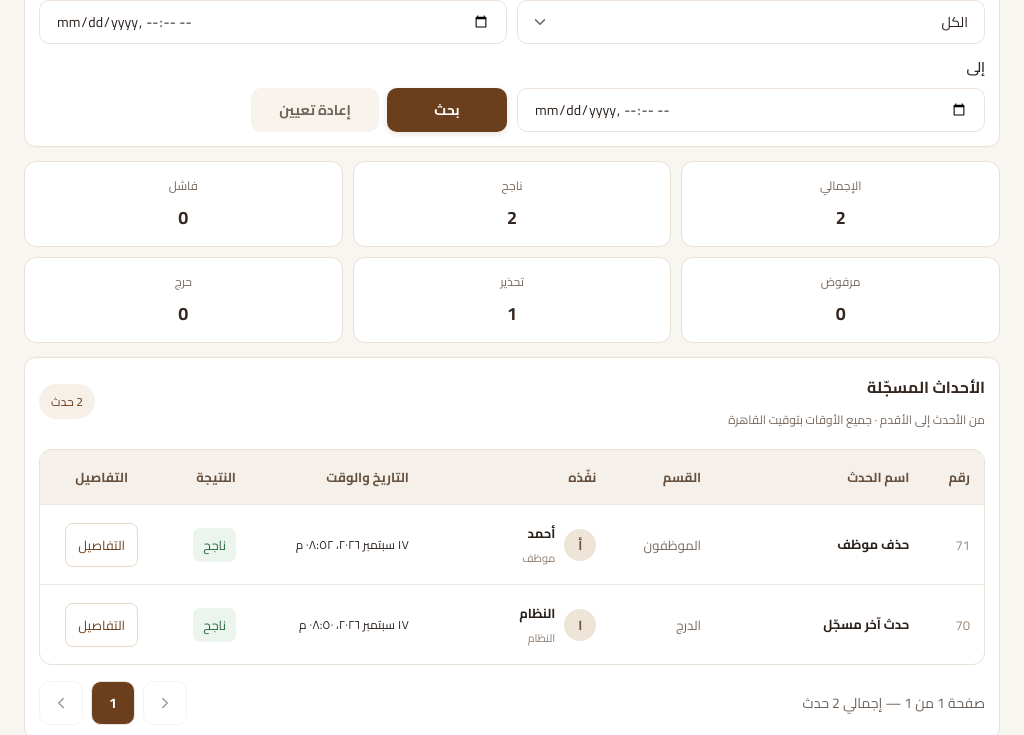
Test: audit page event cards › shows every event with its employee and expands the full-data card
The width and height of the screenshot is (1024, 735).
(page scrolled)
Expected: the text "أحمد" is shown, [528,521,555,545]
Expected: the text "71" is shown, [923,504,984,584]
Click the button with aria-label "تفاصيل الحدث".
click(102, 544)  # box [65,522,138,566]
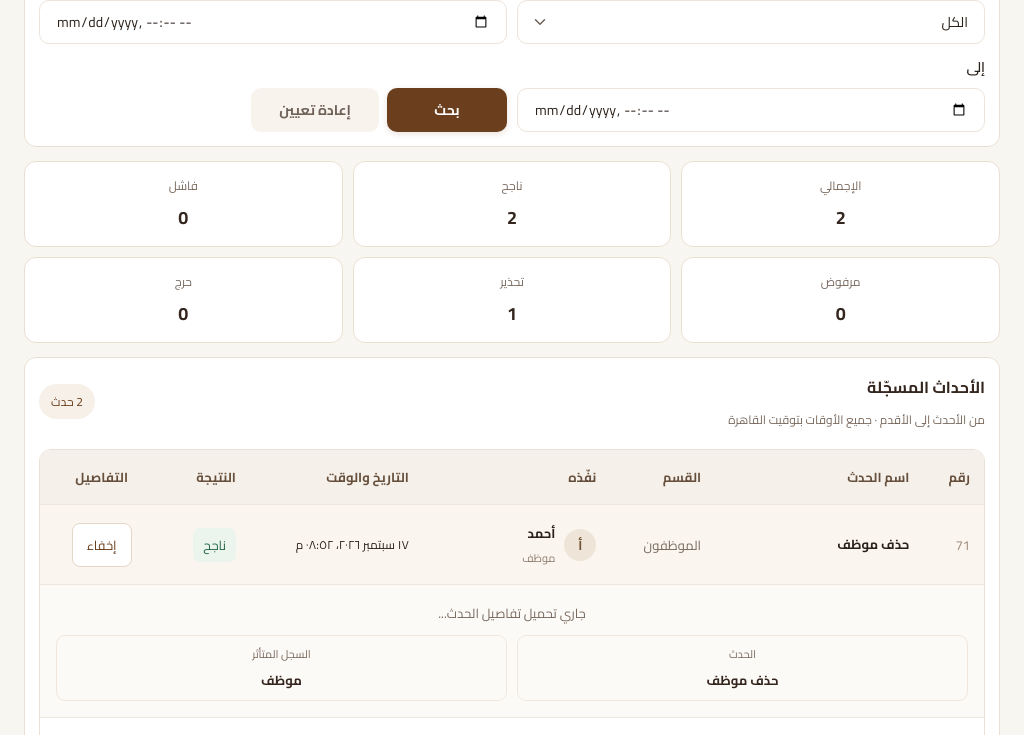
Expected: the text "موظف" below "أحمد" is shown, [522,548,555,568]
Now the text "السجل المتأثر" is shown, box [252,644,311,664]
